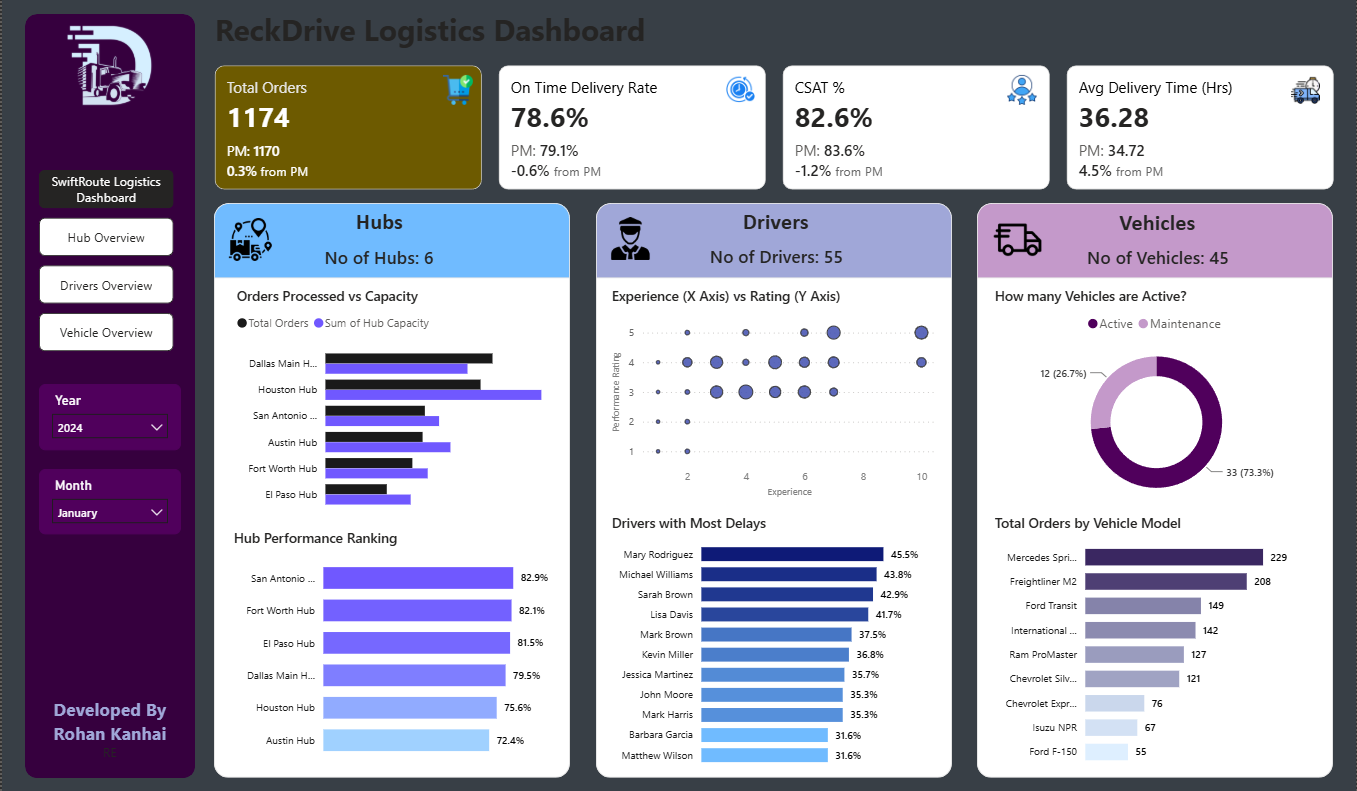

This screenshot's page, from the dashboard's own definition file:
{"tool":"powerbi","page":{"name":"SwiftRoute Logistics Dashboard","canvas":[1450,850],"ordinal":0},"visuals":[{"type":"shape","box":[24.9,15.9,182.1,818.1],"z":0},{"type":"slicer","fields":{"Values":["Date Table.Year"]},"box":[39.3,412.2,152.3,70.7],"z":1000},{"type":"slicer","fields":{"Values":["Date Table.Month"]},"box":[39.3,502.7,152.3,69.7],"z":2000},{"type":"cardVisual","fields":{"Data":["Orders.Total Orders","Orders.On Time Delivery Rate %","Orders.CSAT %","Orders.Avg Delivery Time"]},"box":[222.9,60.7,1210.3,148.3],"z":3000},{"type":"textbox","box":[222.6,10.1,508.8,50.4],"z":4000},{"type":"image","box":[471.8,80.6,31.9,33.8],"z":5000},{"type":"image","box":[775.3,80.6,30.9,33.8],"z":6000},{"type":"image","box":[1075.9,80.6,31.9,33.8],"z":7000},{"type":"image","box":[1379.5,81.6,30.9,33.8],"z":8000},{"type":"shape","box":[226.9,221,381,613.1],"z":9000},{"type":"shape","box":[1044.1,221,381,613.1],"z":10000},{"type":"shape","box":[636,221,381,613.1],"z":11000},{"type":"shape","box":[226.7,218.6,381,80.6],"z":12000},{"type":"textbox","box":[310.3,223.7,187.4,32.2],"z":13000},{"type":"cardVisual","fields":{"Data":["Hubs.No of Hubs"]},"box":[305.3,255.9,197.5,38.3],"z":14000},{"type":"clusteredBarChart","title":"Orders Processed vs Capacity","fields":{"Category":["Hubs.HubName"],"Y":["Orders.Total Orders","Sum(Hubs.Hub Capacity)"]},"box":[245.8,307.6,348.4,250.8],"z":15000},{"type":"barChart","title":"Hub Performance Ranking","fields":{"Category":["Hubs.HubName"],"Y":["Orders.On Time Delivery Rate %"]},"box":[242.9,566.3,351.3,258.8],"z":16000},{"type":"image","box":[240.8,234.8,50.4,46.3],"z":17000},{"type":"shape","box":[636.3,218.6,381,80.6],"z":18000},{"type":"textbox","box":[734.5,223.9,188.1,31.9],"z":19000},{"type":"cardVisual","fields":{"Data":["Drivers.No of Drivers"]},"box":[730.6,254.8,198.1,38.8],"z":20000},{"type":"image","box":[647.9,233.9,50.8,45.8],"z":21000},{"type":"scatterChart","title":"Experience (X Axis) vs Rating  (Y Axis)","fields":{"X":["Drivers.Experience"],"Y":["Drivers.Performance Rating"],"Size":["Sum(Drivers.Experience)1"]},"box":[647.9,307.6,363.3,231.9],"z":22000},{"type":"barChart","title":"Drivers with Most Delays","fields":{"Category":["Drivers.DriverName"],"Y":["Orders.Delayed Delivery %"]},"box":[647.9,550.4,363.3,280.7],"z":23000},{"type":"shape","box":[1044,218.6,381,80.6],"z":24000},{"type":"textbox","box":[1143.6,224.9,187.1,31.9],"z":25000},{"type":"cardVisual","fields":{"Data":["Vehicles.No of Vehicles"]},"box":[1138.6,255.8,197.1,38.8],"z":26000},{"type":"image","box":[1058,231.9,59.7,50.8],"z":27000},{"type":"donutChart","title":"How many Vehicles are Active?","fields":{"Category":["Vehicles.Vehicle Status"],"Y":["Count(Vehicles.Vehicle ID)"]},"box":[1058,307.6,356.3,242.9],"z":28000},{"type":"barChart","fields":{"Category":["Vehicles.Vehicle Model"],"Y":["Orders.Total Orders"]},"box":[1058,550.4,356.3,280.7],"z":29000},{"type":"image","box":[46.3,19.1,140.1,110.8],"z":30000},{"type":"pageNavigator","box":[39.6,183.1,144.9,197.7],"z":31000},{"type":"textbox","box":[39.6,742.9,152,81.4],"z":32000}]}

Visuals, with their boxes in screenshot pixels (x1, y1, x2, y2), scaled from the page's 1450x850 canvas onto the 1357x791 screenshot:
shape: select_region(23, 15, 194, 776)
slicer - Date Table.Year: select_region(37, 384, 179, 449)
slicer - Date Table.Month: select_region(37, 468, 179, 533)
cardVisual - Orders.Total Orders x Orders.On Time Delivery Rate %: select_region(209, 56, 1341, 194)
textbox: select_region(208, 9, 684, 56)
image: select_region(442, 75, 471, 106)
image: select_region(726, 75, 754, 106)
image: select_region(1007, 75, 1037, 106)
image: select_region(1291, 76, 1320, 107)
shape: select_region(212, 206, 569, 776)
shape: select_region(977, 206, 1334, 776)
shape: select_region(595, 206, 952, 776)
shape: select_region(212, 203, 569, 278)
textbox: select_region(290, 208, 466, 238)
cardVisual - Hubs.No of Hubs: select_region(286, 238, 471, 274)
"Orders Processed vs Capacity" clusteredBarChart: select_region(230, 286, 556, 520)
"Hub Performance Ranking" barChart: select_region(227, 527, 556, 768)
image: select_region(225, 219, 273, 262)
shape: select_region(595, 203, 952, 278)
textbox: select_region(687, 208, 863, 238)
cardVisual - Drivers.No of Drivers: select_region(684, 237, 869, 273)
image: select_region(606, 218, 654, 260)
"Experience (X Axis) vs Rating  (Y Axis)" scatterChart: select_region(606, 286, 946, 502)
"Drivers with Most Delays" barChart: select_region(606, 512, 946, 773)
shape: select_region(977, 203, 1334, 278)
textbox: select_region(1070, 209, 1245, 239)
cardVisual - Vehicles.No of Vehicles: select_region(1066, 238, 1250, 274)
image: select_region(990, 216, 1046, 263)
"How many Vehicles are Active?" donutChart: select_region(990, 286, 1324, 512)
barChart - Vehicles.Vehicle Model x Orders.Total Orders: select_region(990, 512, 1324, 773)
image: select_region(43, 18, 174, 121)
pageNavigator: select_region(37, 170, 173, 354)
textbox: select_region(37, 691, 179, 767)
